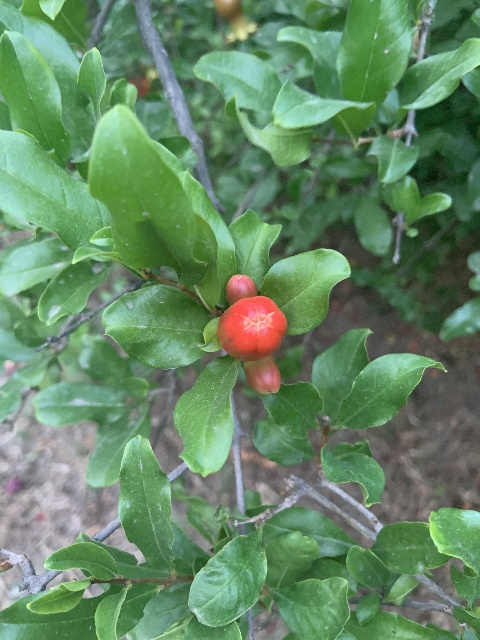bud: (216, 295, 287, 361), (243, 357, 280, 394), (226, 273, 257, 303)
early-fruit: (213, 0, 259, 43)
